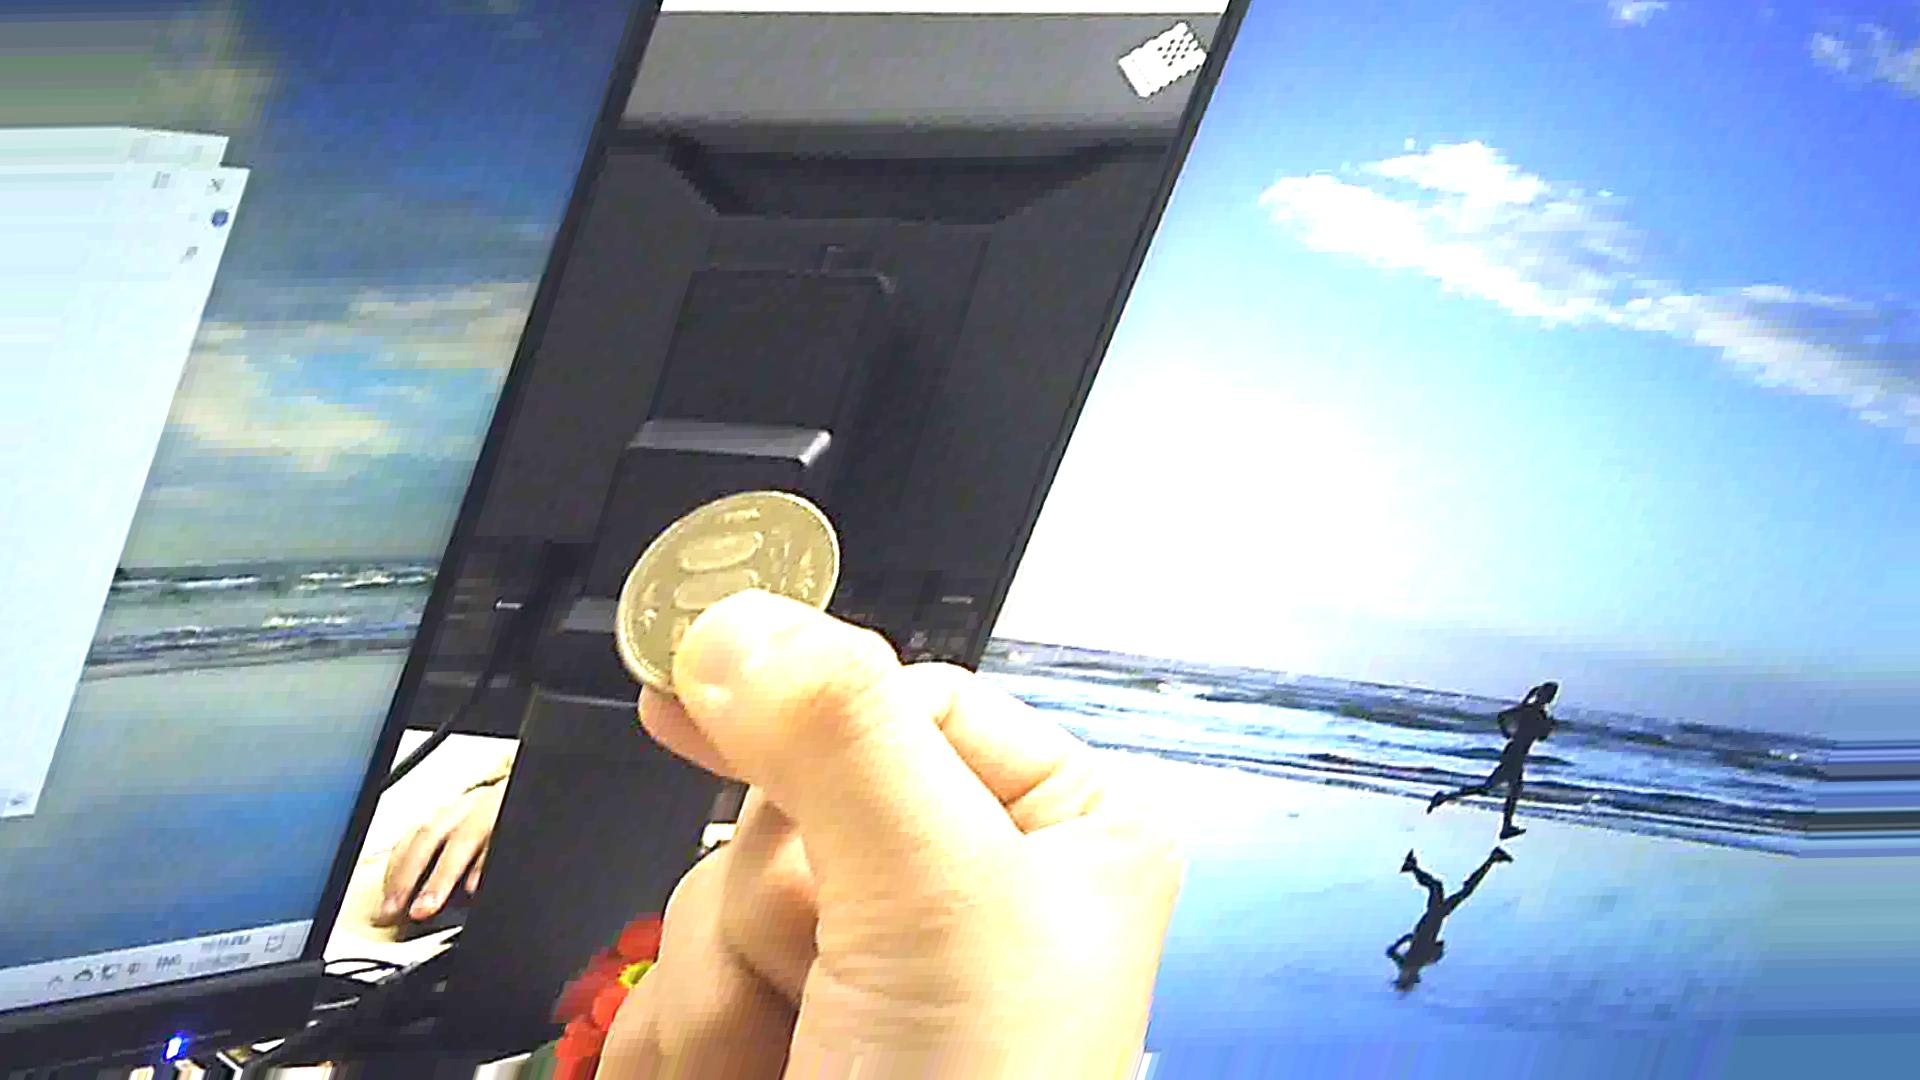500 Yen: (591, 484, 829, 669)
